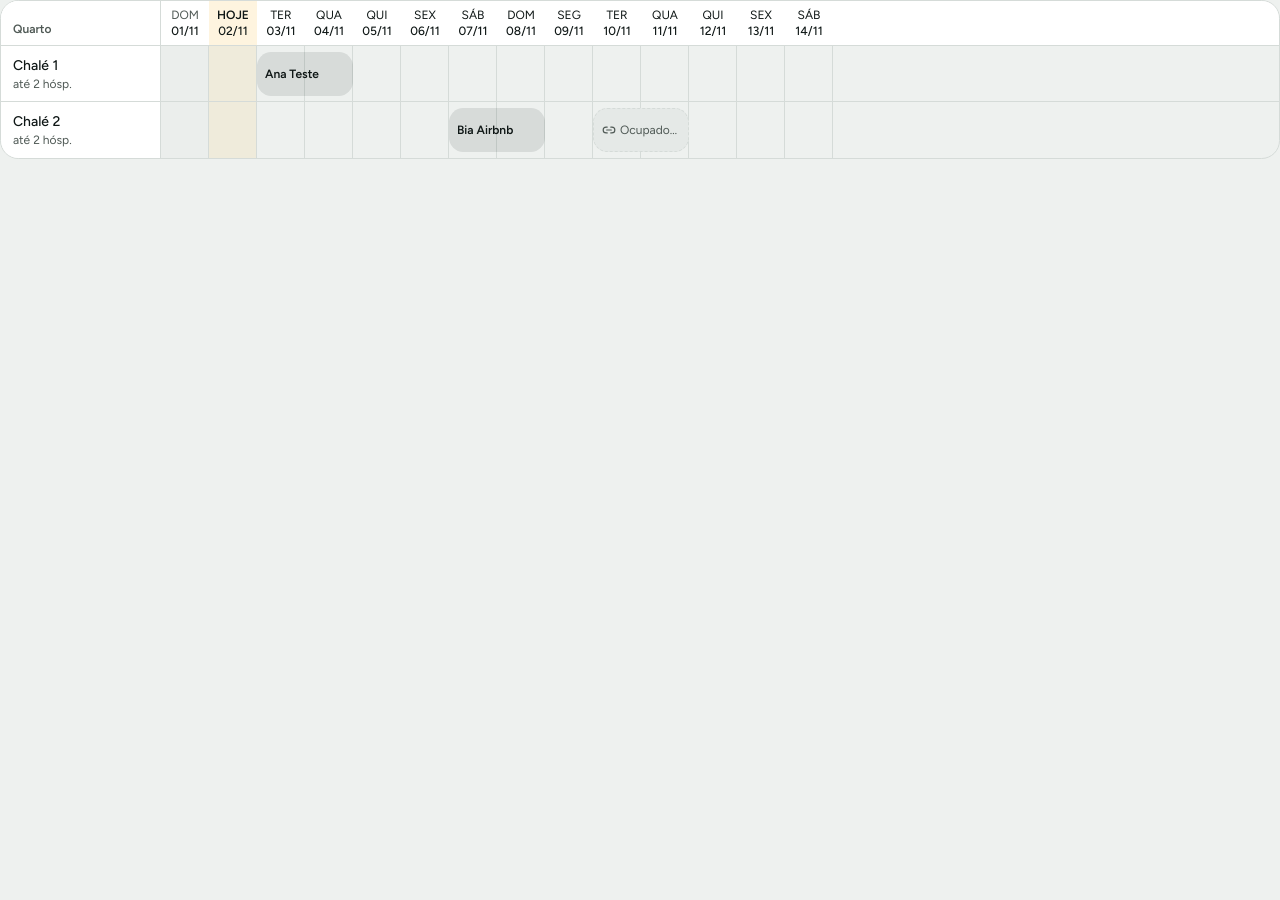
it: mapa de ocupação › reserva do Airbnb: explica e não oferece Mover
Click the button "Bia Airbnb" at (497, 130), box [449,108,545,152]
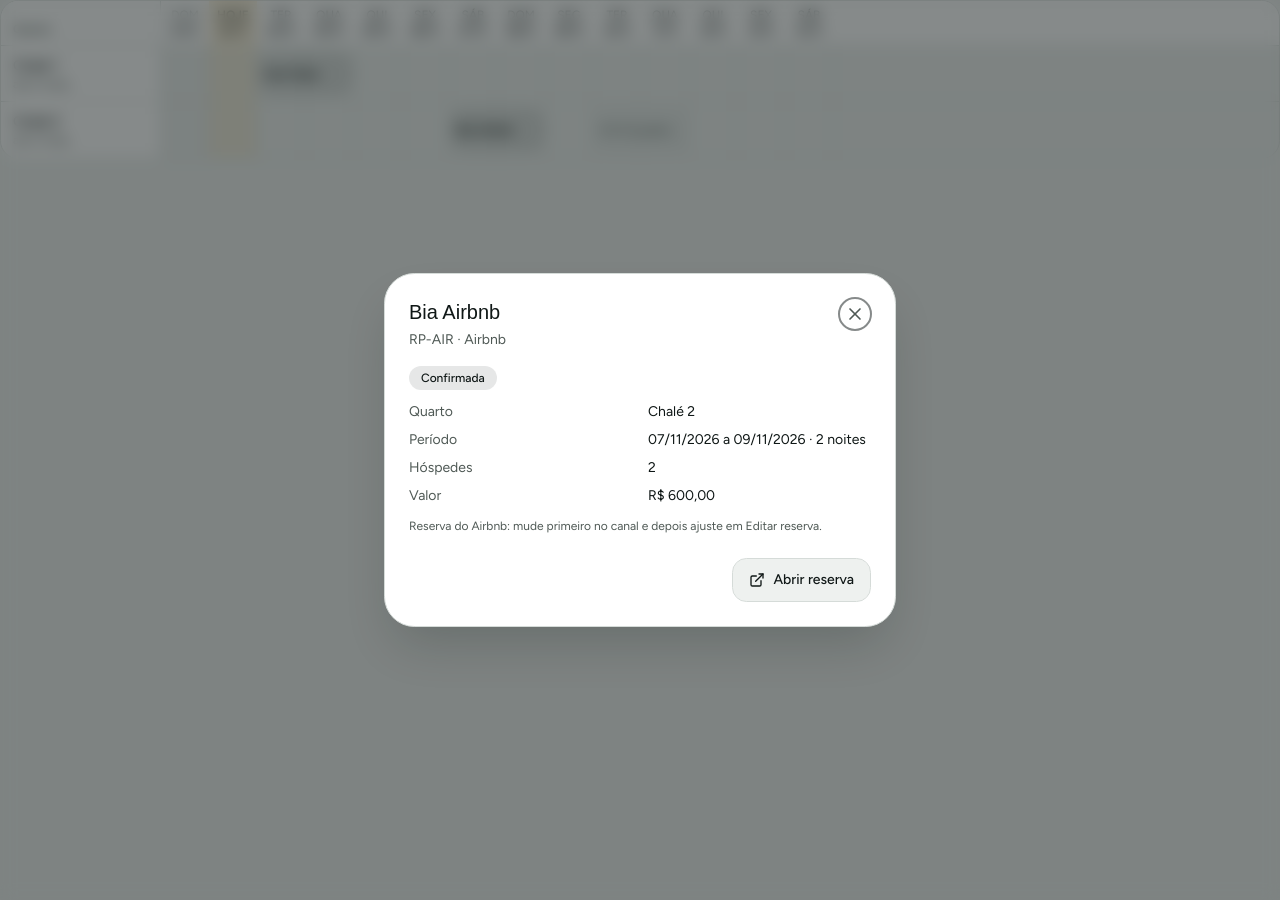
expect the text "mude primeiro no canal" is shown: met, box [409,519,822,533]
